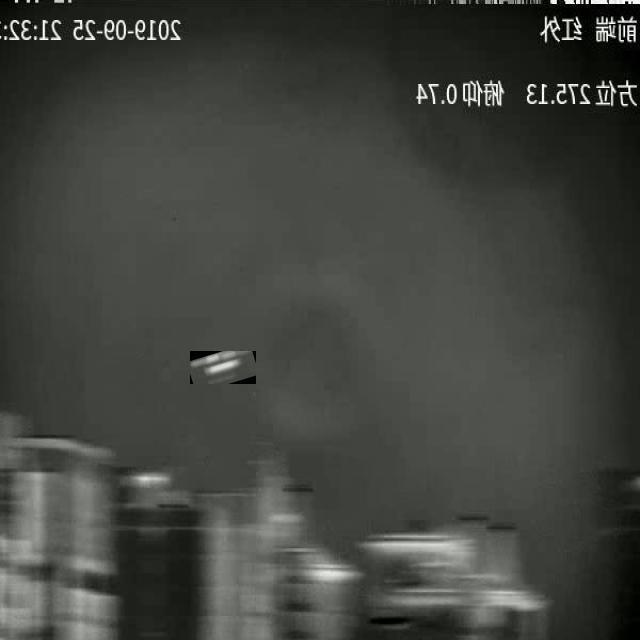drone: (190, 351, 251, 384)
